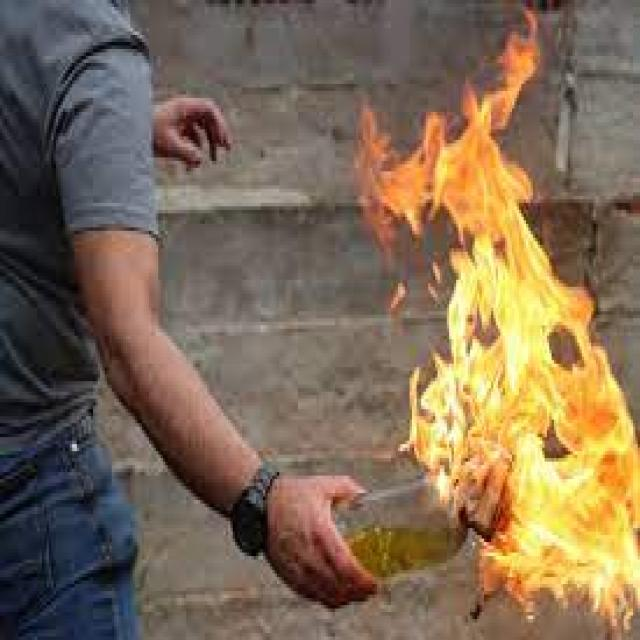fire: (331, 90, 640, 630)
